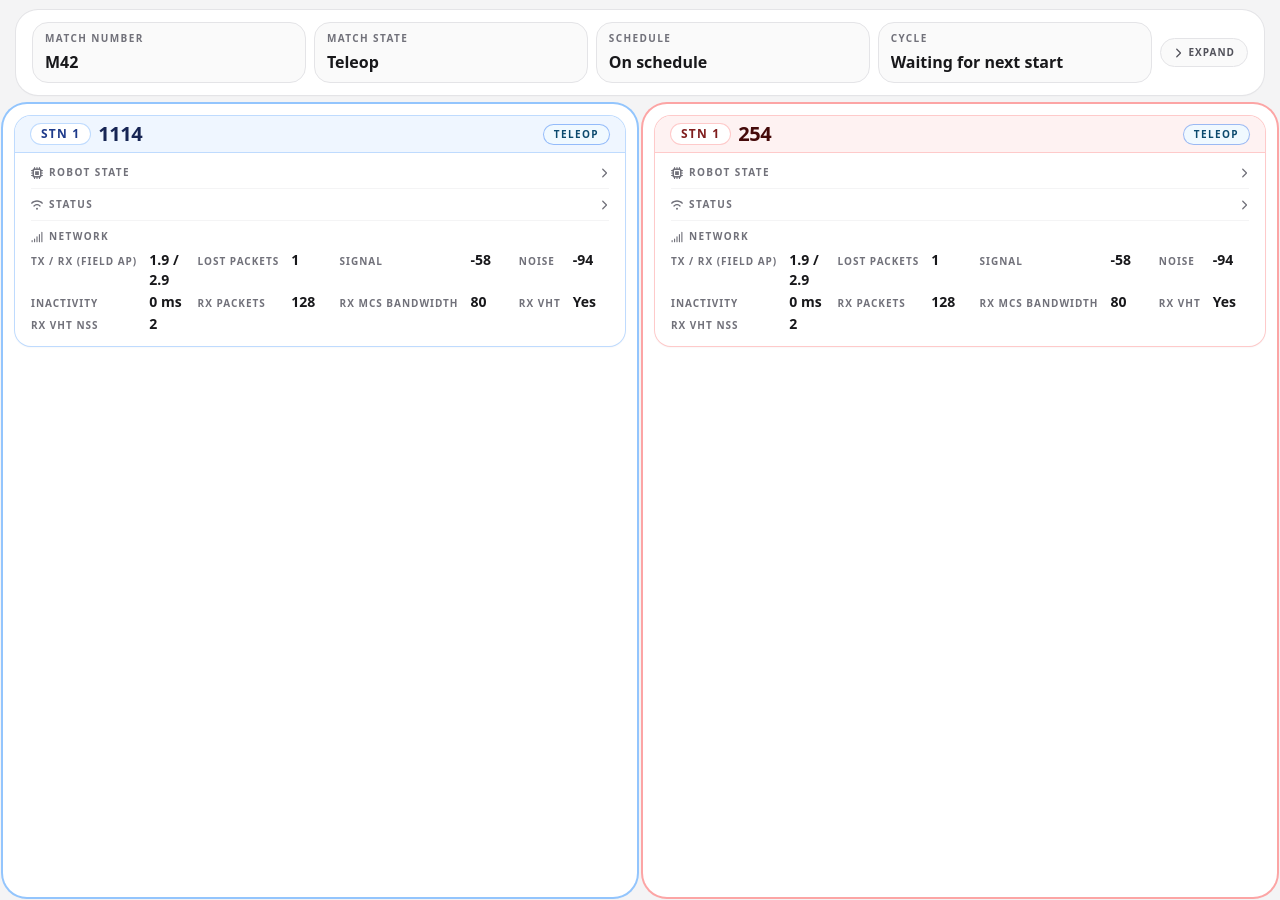
Diagnostics › renders readable one-column team cards with grouped diagnostics sections
The image size is (1280, 900).
Click the button with test id "diagnostics-collapse-toggle" at (1204, 52), box [1160, 38, 1248, 67]
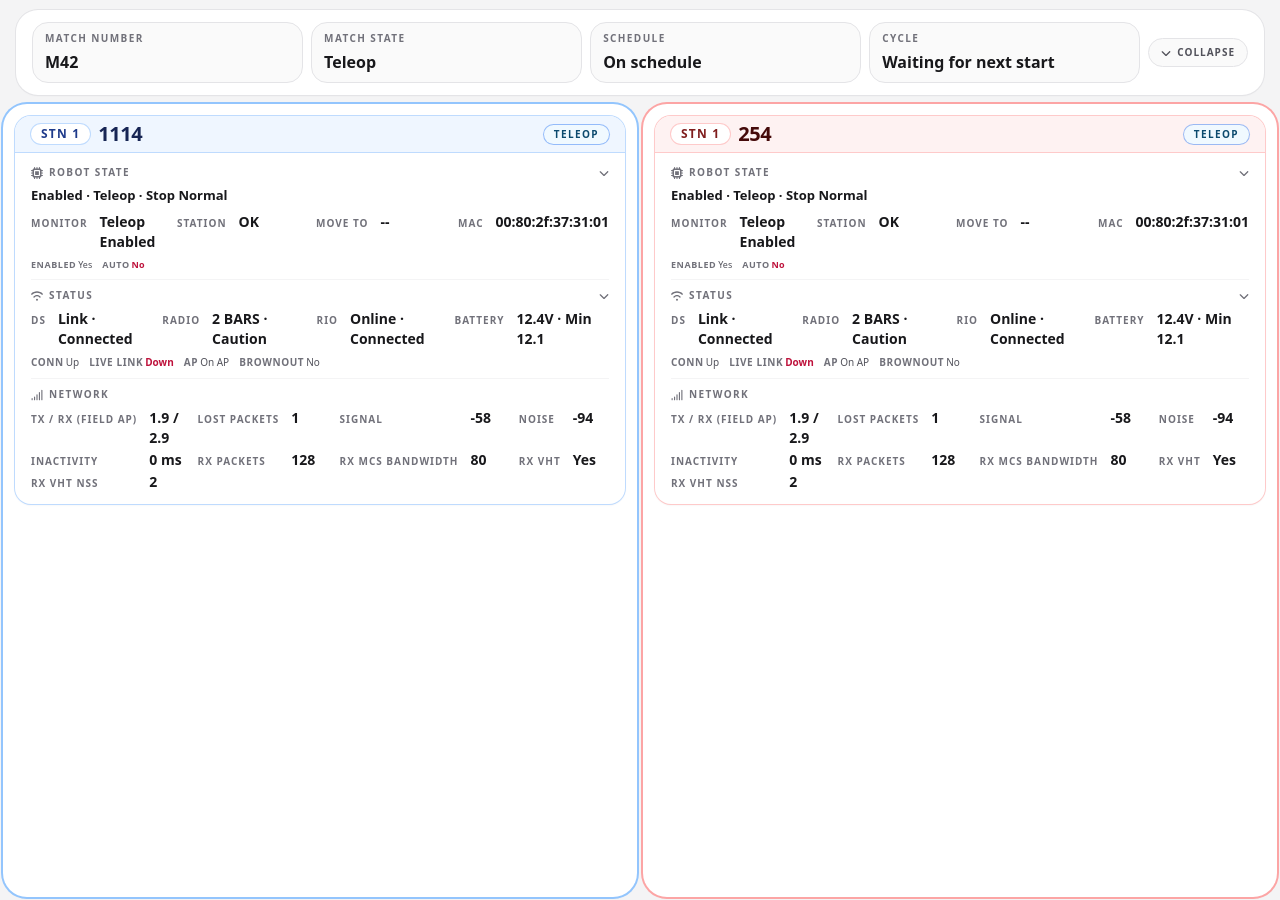
Now the text with test id "diagnostics-ds-tile" below "1114" shows "Connected", box [58, 309, 133, 348]
Now the text with test id "diagnostics-radio-tile" below "1114" shows "2 BARS", box [212, 309, 267, 348]
Now the 1st text with test id "diagnostics-battery-tile" shows "Min 12.1", box [517, 309, 592, 348]
